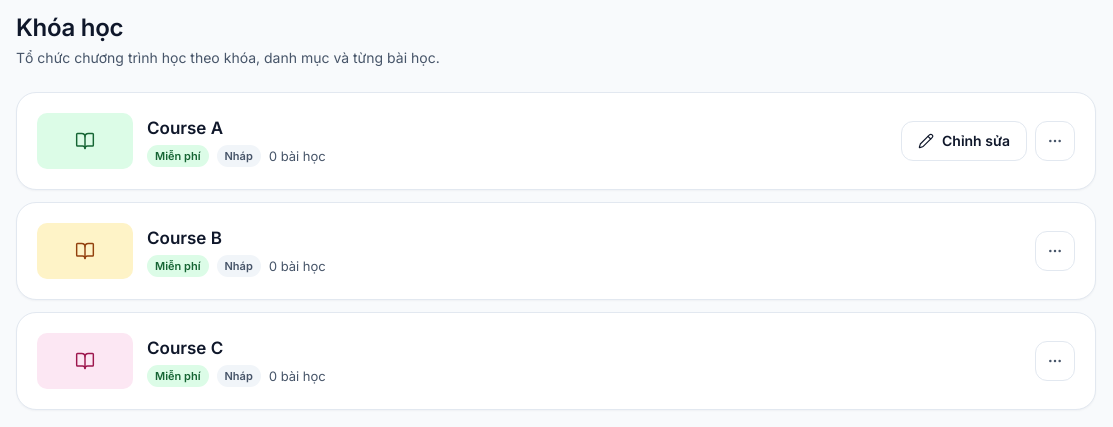
Test: StudioCourses - reorder courses (R18-04) › hides the move items from course-scoped-only staff (reordering is class-wide)
Expected: the heading "Course B" is shown, [147,228,222,248]
Click the button named "Thao tác khác cho khóa học \"Course B\"" at [1055, 251], box [1035,231,1075,271]
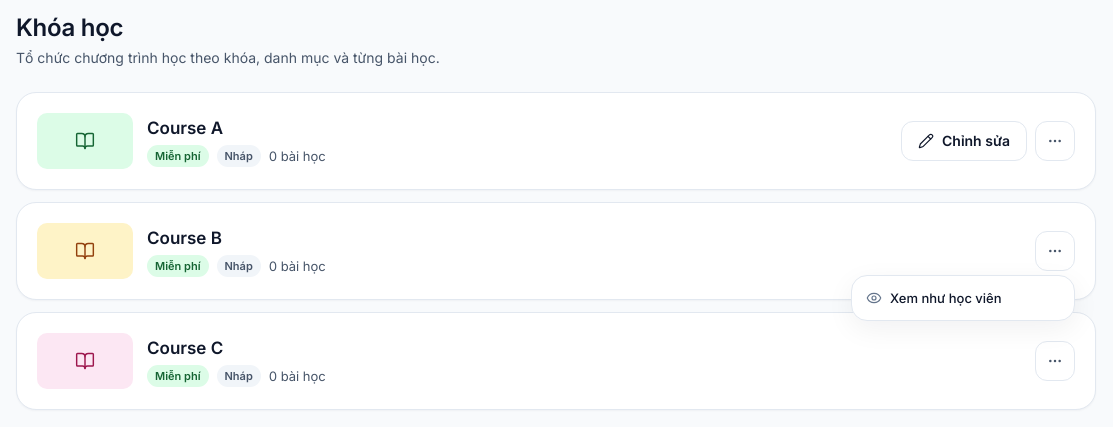
Now the menu item "Xem như học viên" is shown, box [866,290,1002,306]
